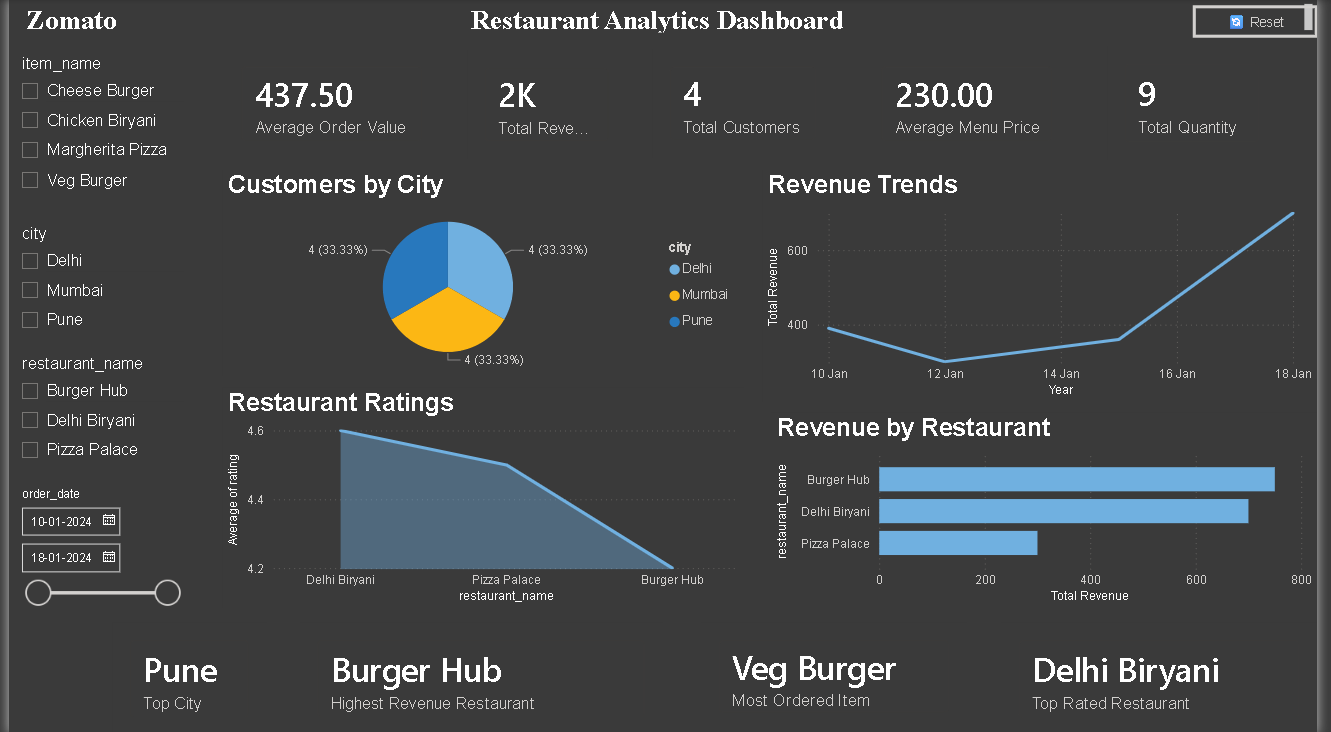

Layout of this report page (visuals, bound fields, positions):
{"tool":"powerbi","page":{"name":"Page 1","canvas":[1280,720],"ordinal":0},"visuals":[{"type":"barChart","title":"Revenue by Restaurant","fields":{"Category":["zomato_analytics restaurants.restaurant_name"],"Y":["zomato_analytics customers.Total Revenue"]},"box":[0,486.9,619.1,233.6],"z":0},{"type":"areaChart","title":"Restaurant Ratings","fields":{"Category":["zomato_analytics restaurants.restaurant_name"],"Y":["Avg(zomato_analytics restaurants.rating)"]},"box":[640.1,486.9,640.1,232.3],"z":1000},{"type":"cardVisual","fields":{"Data":["zomato_analytics customers.Total Revenue"]},"box":[374.4,166.8,155.7,106.3],"z":2000},{"type":"cardVisual","fields":{"Data":["zomato_analytics customers.Total Orders"]},"box":[0,166.8,149.5,106.3],"z":3000},{"type":"cardVisual","fields":{"Data":["zomato_analytics customers.Total Customers"]},"box":[530.1,166.8,176.7,106.3],"z":4000},{"type":"cardVisual","fields":{"Data":["zomato_analytics customers.Average Order Value"]},"box":[149.5,166.8,224.9,107.5],"z":5000},{"type":"cardVisual","fields":{"Data":["zomato_analytics customers.Average Menu Price"]},"box":[706.9,166.8,202.7,107.5],"z":6000},{"type":"cardVisual","fields":{"Data":["zomato_analytics customers.Total Quantity"]},"box":[1097.4,166.8,182.9,105],"z":7000},{"type":"pieChart","title":"Customers by City","fields":{"Y":["CountNonNull(zomato_analytics orders.customer_id)"],"Category":["zomato_analytics restaurants.city"]},"box":[0,273.1,527.7,200.2],"z":8000},{"type":"cardVisual","fields":{"Data":["zomato_analytics customers.Orders Count"]},"box":[909.5,166.8,189.1,105],"z":9000},{"type":"lineChart","title":"Revenue Trends","fields":{"Y":["zomato_analytics customers.Total Revenue"],"Category":["zomato_analytics orders.order_date.Variation.Date Hierarchy.Year","zomato_analytics orders.order_date.Variation.Date Hierarchy.Quarter","zomato_analytics orders.order_date.Variation.Date Hierarchy.Month","zomato_analytics orders.order_date.Variation.Date Hierarchy.Day"]},"box":[537.6,273.1,742.7,196.5],"z":10000},{"type":"slicer","fields":{"Values":["zomato_analytics restaurants.city"]},"box":[227.4,51.9,138.4,114.9],"z":11000},{"type":"slicer","fields":{"Values":["zomato_analytics restaurants.restaurant_name"]},"box":[365.8,51.9,171.8,114.9],"z":12000},{"type":"slicer","fields":{"Values":["zomato_analytics menu.item_name"]},"box":[0,0,227.4,166.8],"z":13000},{"type":"slicer","fields":{"Values":["zomato_analytics orders.order_date"]},"box":[537.6,51.9,301.5,114.9],"z":14000},{"type":"textbox","box":[386.8,0,601.8,53.1],"z":15000},{"type":"actionButton","box":[1066.3,66,200.5,42.8],"z":15001}]}

Visuals, with their boxes in screenshot pixels (x1, y1, x2, y2), scaled from the page's 1280x720 canvas onto the 1331x732 screenshot:
"Revenue by Restaurant" barChart: <bbox>0, 495, 644, 731</bbox>
"Restaurant Ratings" areaChart: <bbox>666, 495, 1330, 731</bbox>
cardVisual - zomato_analytics customers.Total Revenue: <bbox>389, 170, 551, 278</bbox>
cardVisual - zomato_analytics customers.Total Orders: <bbox>0, 170, 155, 278</bbox>
cardVisual - zomato_analytics customers.Total Customers: <bbox>551, 170, 735, 278</bbox>
cardVisual - zomato_analytics customers.Average Order Value: <bbox>155, 170, 389, 279</bbox>
cardVisual - zomato_analytics customers.Average Menu Price: <bbox>735, 170, 946, 279</bbox>
cardVisual - zomato_analytics customers.Total Quantity: <bbox>1141, 170, 1330, 276</bbox>
"Customers by City" pieChart: <bbox>0, 278, 549, 481</bbox>
cardVisual - zomato_analytics customers.Orders Count: <bbox>946, 170, 1142, 276</bbox>
"Revenue Trends" lineChart: <bbox>559, 278, 1330, 477</bbox>
slicer - zomato_analytics restaurants.city: <bbox>236, 53, 380, 170</bbox>
slicer - zomato_analytics restaurants.restaurant_name: <bbox>380, 53, 559, 170</bbox>
slicer - zomato_analytics menu.item_name: <bbox>0, 0, 236, 170</bbox>
slicer - zomato_analytics orders.order_date: <bbox>559, 53, 873, 170</bbox>
textbox: <bbox>402, 0, 1028, 54</bbox>
actionButton: <bbox>1109, 67, 1317, 111</bbox>
